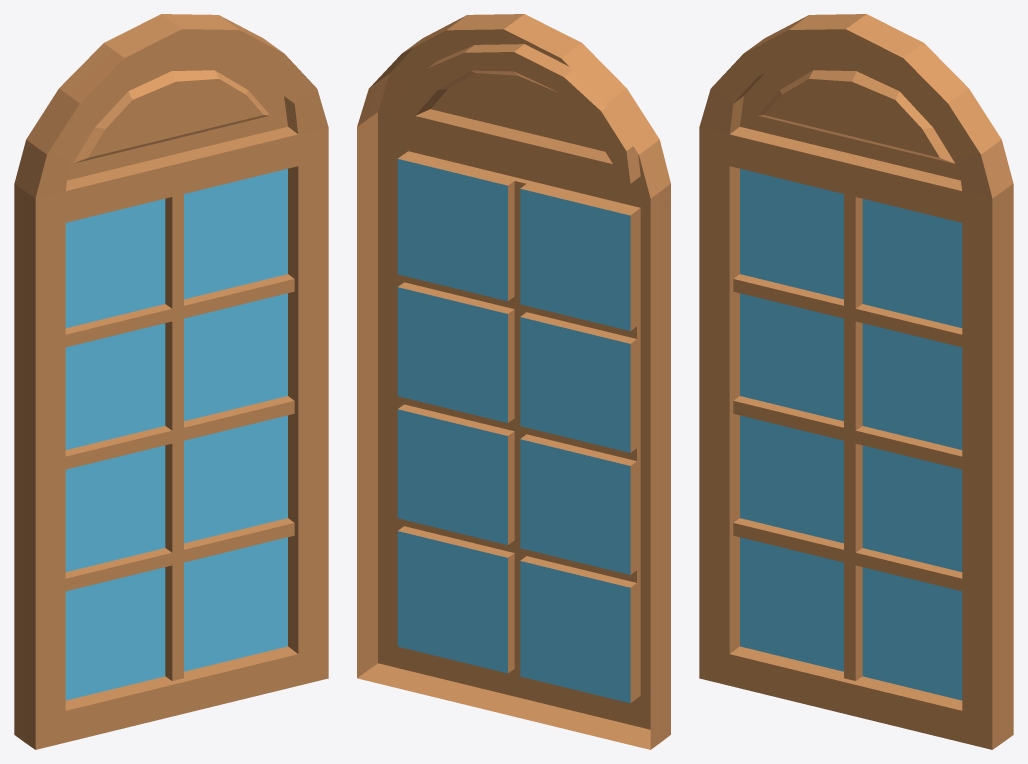
Rendered from Window8Curve.fbx.
3 views of the same model, side by side, from view 1: azimuth 30°, elevation 25°; view 2: azimuth 150°, elevation 25°; view 3: azimuth 330°, elevation 25° (orthographic).
Parts seen in each view (by area): view 1: Window8Curve; view 2: Window8Curve; view 3: Window8Curve.
Boxes of the visible parts, x1,y1,x2,y2 form: Window8Curve: [14, 14, 328, 749]; Window8Curve: [357, 14, 670, 749]; Window8Curve: [699, 14, 1013, 749].
Bounding box in the file's own units: 1.26 × 0.1549 × 2.81.
